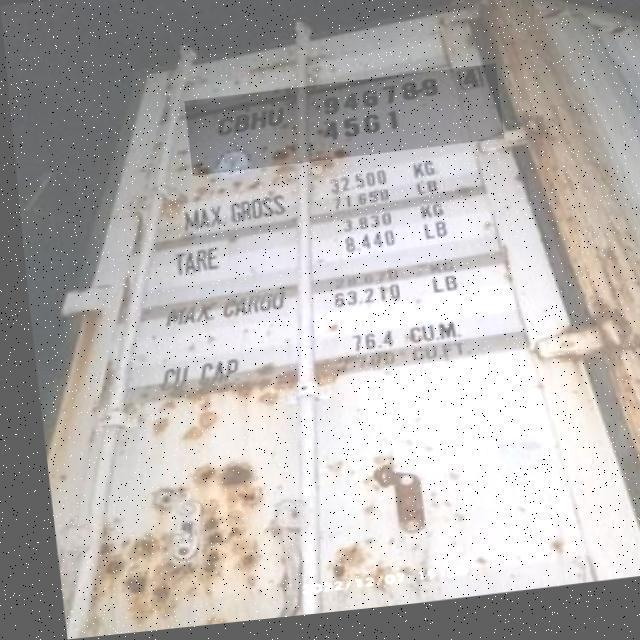container_number_h: (181, 74, 500, 179)
